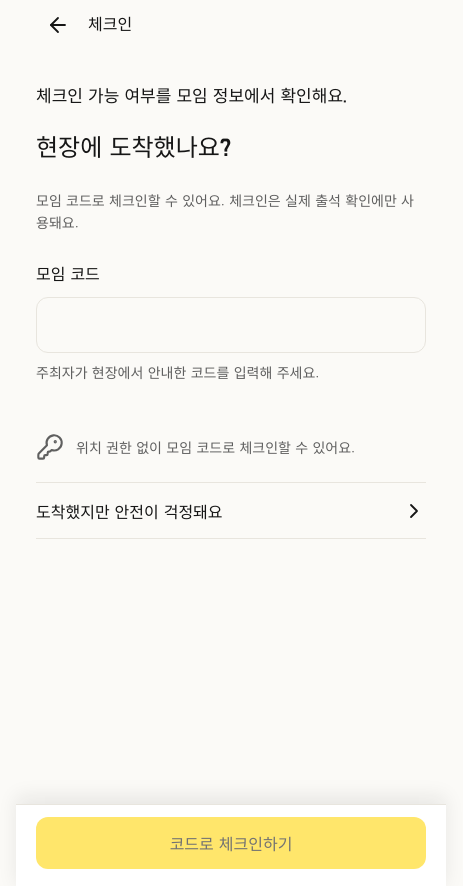
Test: CheckInPage API behavior › does not show success before 201, deduplicates in flight, and renders success after it
This screenshot has width=463, height=886.
Type "A" into the field labelled "모임 코드" at (231,325), box [36,297,426,353]
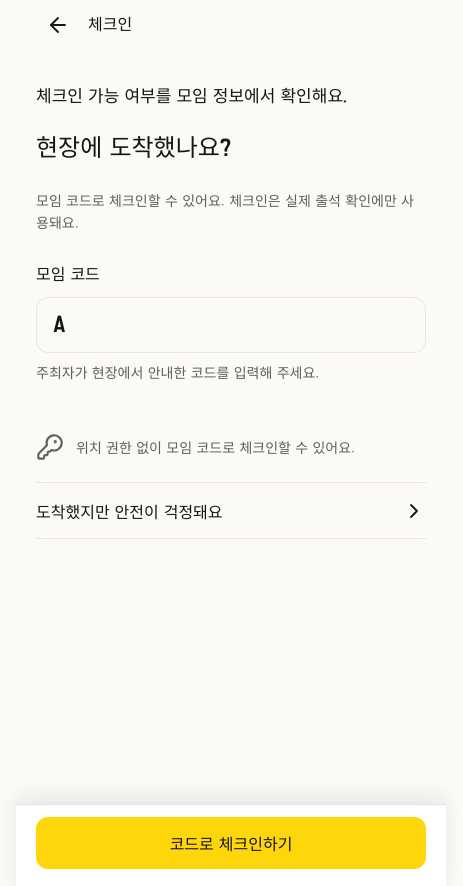
Expected: the button "코드로 체크인하기" is enabled
Click the button "코드로 체크인하기" at (231,843), box [36,817,426,869]
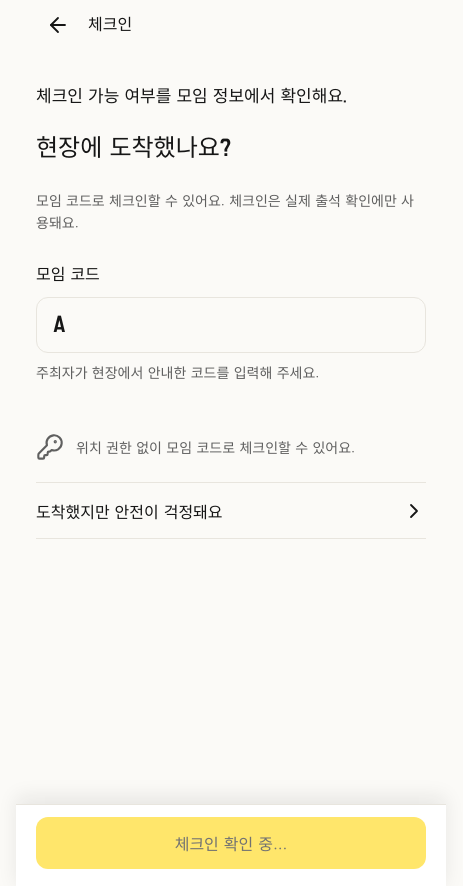
Click the button named "코드로 체크인하기" at (231,843), box [36,817,426,869]
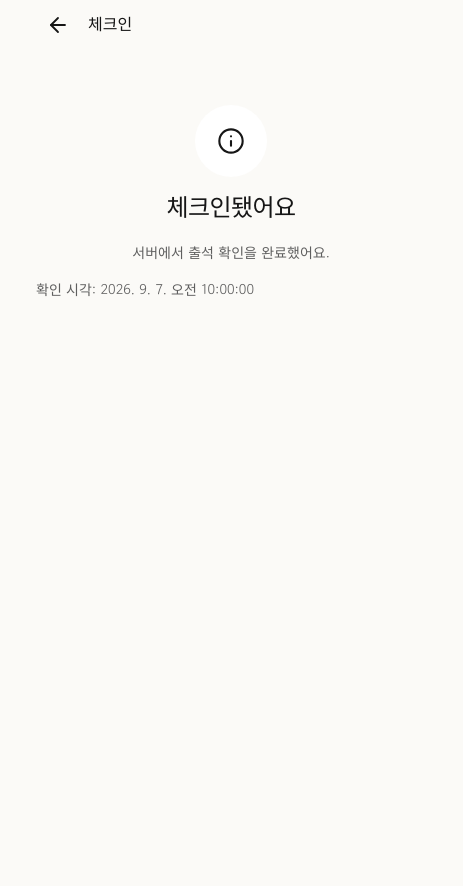
Expected: the heading "체크인됐어요" is shown, [166,197,295,221]
